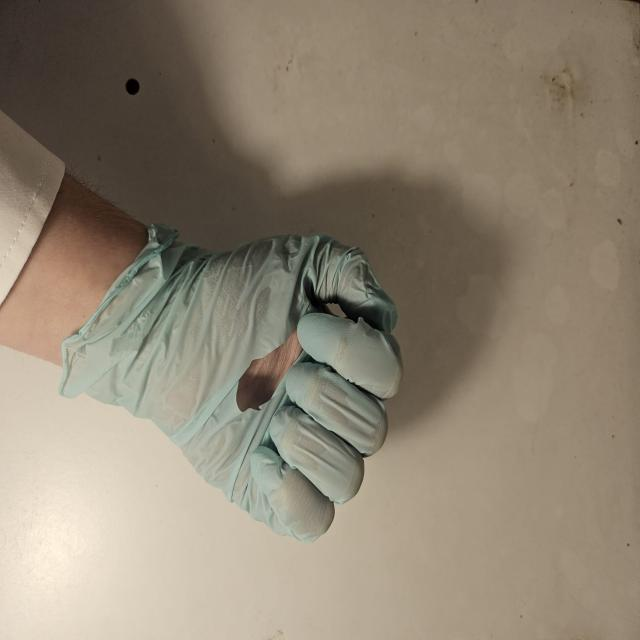gloves_damaged: (54, 212, 410, 549)
